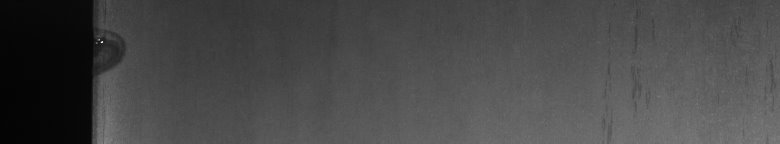hb: (104, 4, 131, 80)
